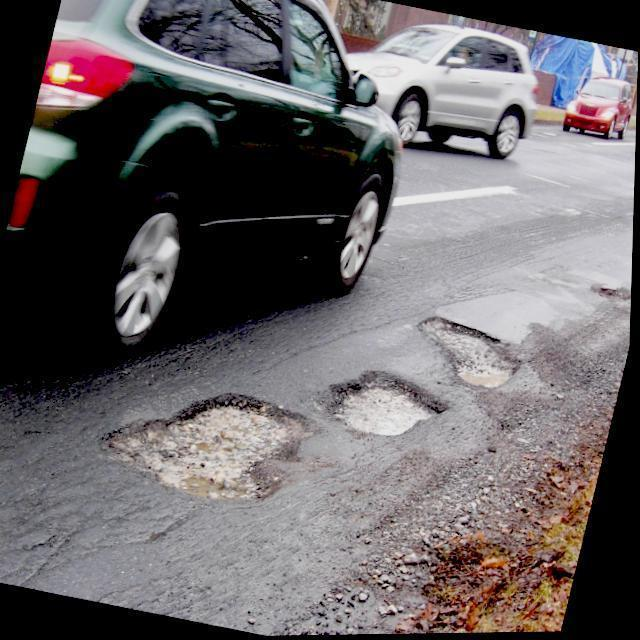Pothole: (111, 390, 317, 511), (420, 313, 522, 386), (334, 373, 445, 438)
